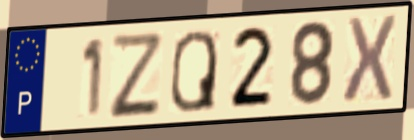1: (79, 34, 103, 120)
2: (229, 24, 278, 110)
8: (287, 18, 336, 109)
Q: (167, 27, 219, 115)
X: (340, 13, 399, 108)
Z: (108, 30, 162, 121)
